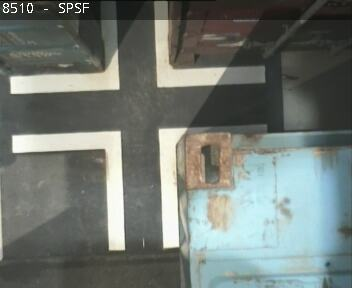groundmarker_1: (12, 122, 266, 248), (10, 1, 267, 95)
